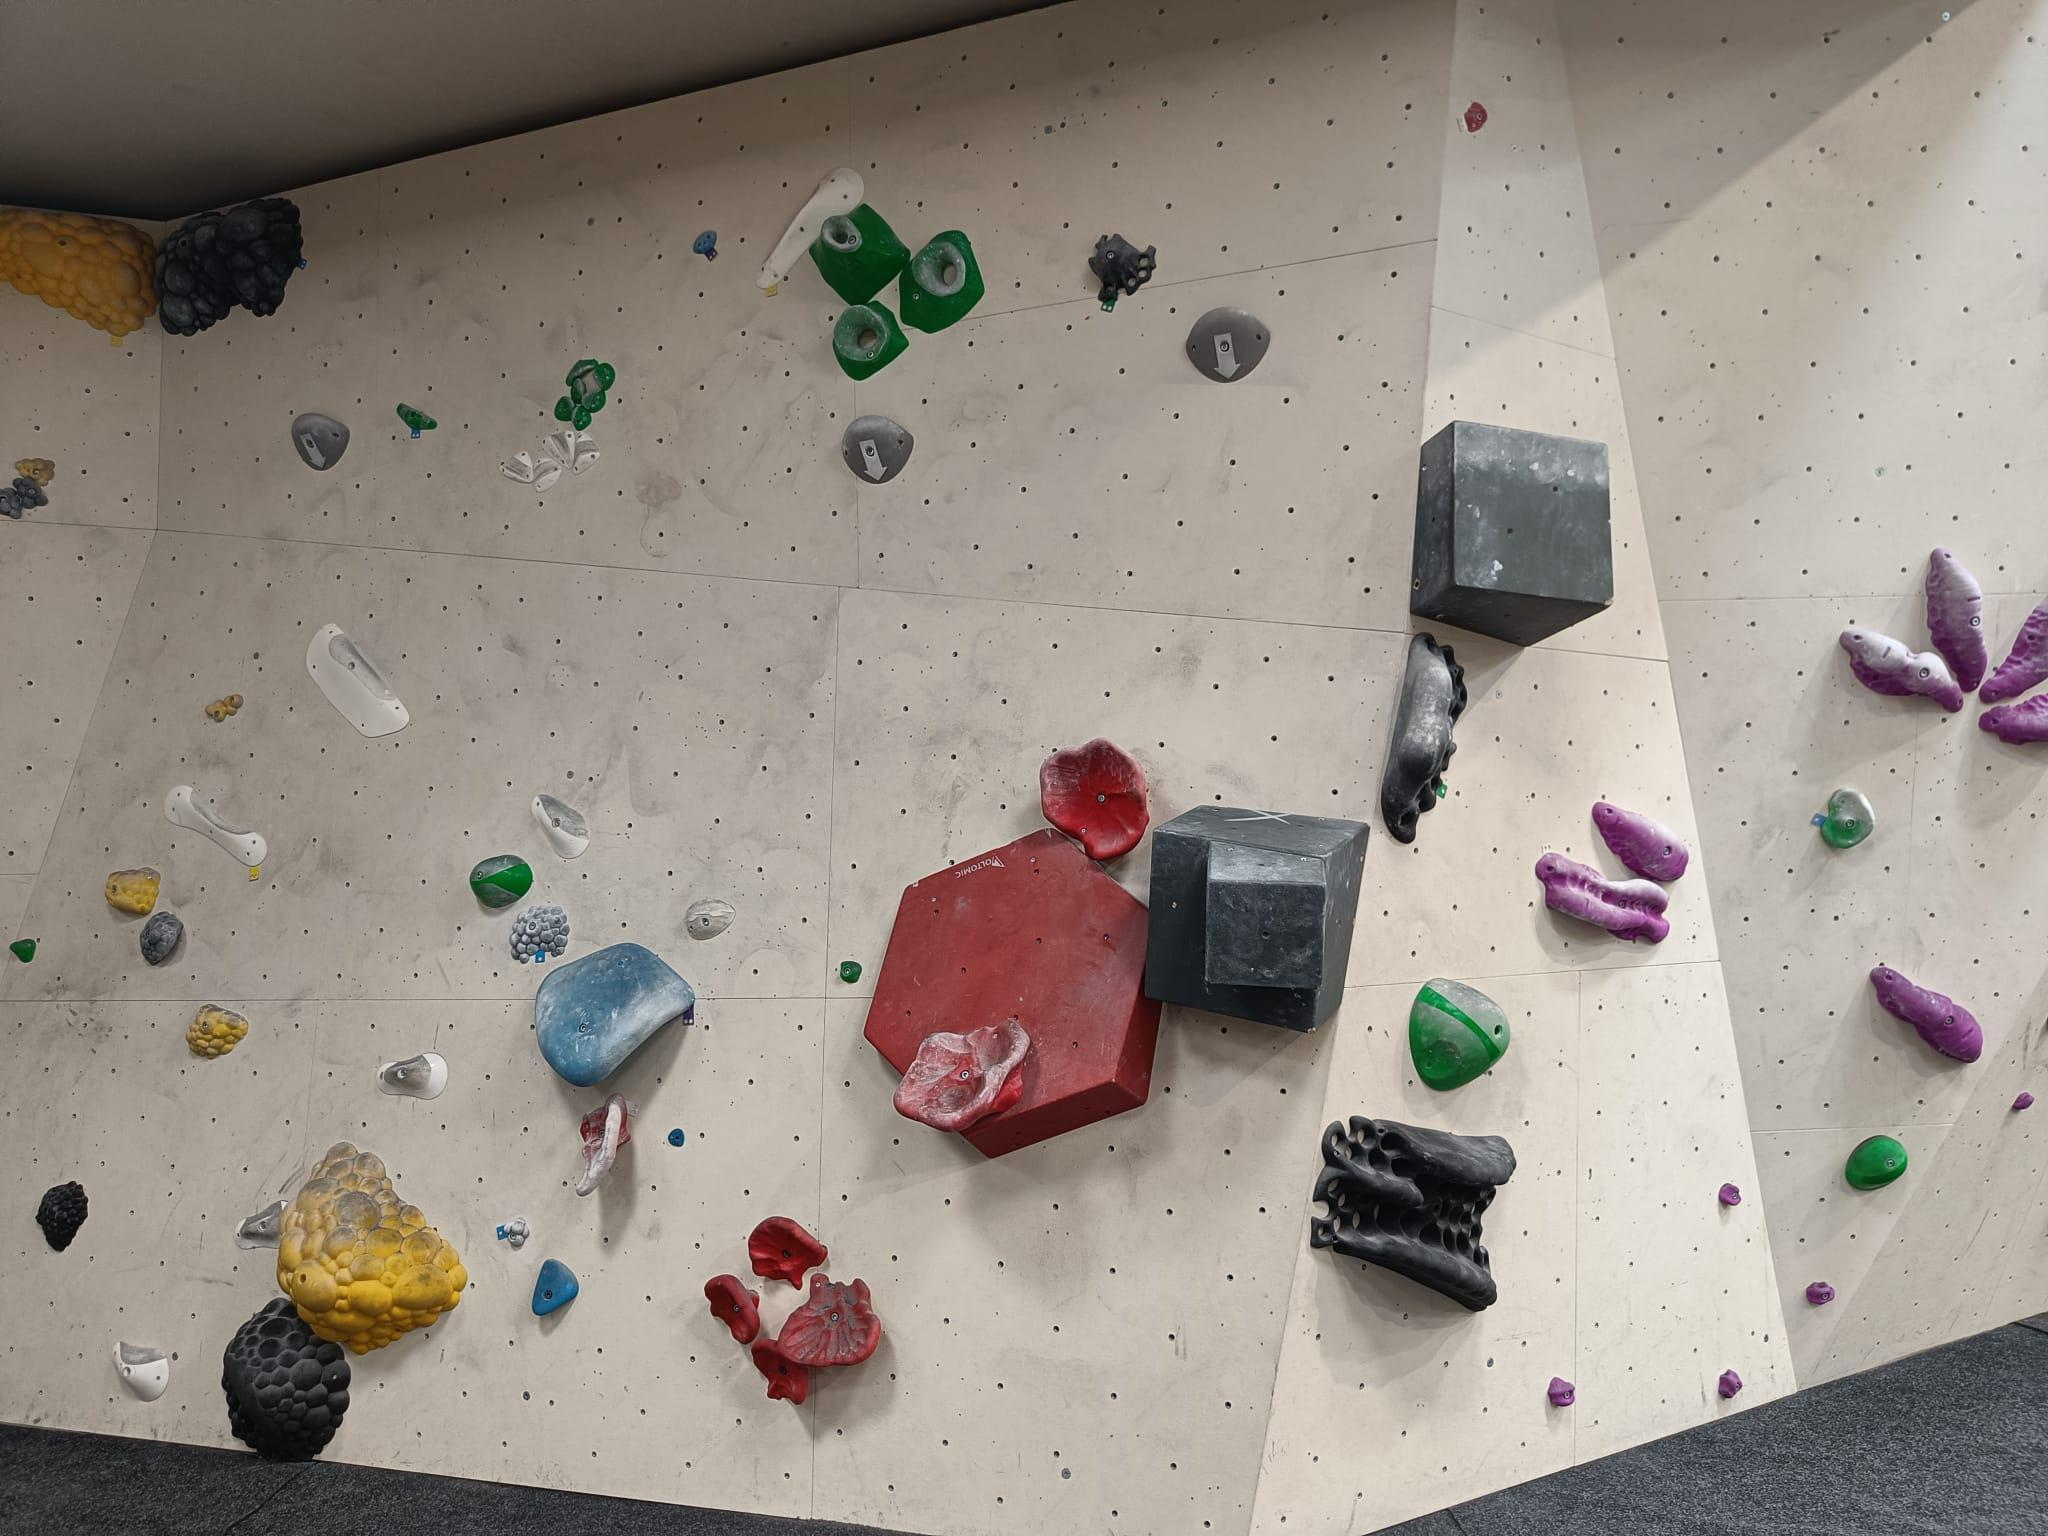hold: (277, 1142, 468, 1355), (1311, 1117, 1517, 1312), (534, 942, 695, 1086), (221, 1297, 352, 1463), (153, 197, 303, 336), (0, 208, 161, 336), (1380, 632, 1467, 845), (893, 1018, 1030, 1133), (1040, 736, 1151, 863), (753, 165, 866, 289), (1535, 852, 1671, 944), (305, 623, 410, 739), (1409, 978, 1511, 1092), (1871, 966, 1983, 1063), (1840, 628, 1964, 713), (810, 203, 911, 307), (776, 1273, 882, 1367), (898, 229, 985, 334), (1925, 547, 1988, 692), (163, 786, 268, 866), (1592, 800, 1688, 881), (1979, 595, 2048, 703), (1185, 307, 1271, 384), (832, 300, 910, 381), (748, 1215, 829, 1291), (576, 1094, 632, 1197), (842, 415, 914, 484), (1089, 232, 1158, 302), (705, 1273, 761, 1346), (531, 794, 590, 860), (35, 1179, 89, 1252), (751, 1338, 810, 1404), (1979, 692, 2048, 745), (185, 1004, 250, 1060), (111, 1341, 169, 1402), (510, 905, 571, 963), (469, 854, 534, 908), (1821, 787, 1877, 849), (1845, 1136, 1908, 1191), (376, 1052, 448, 1099), (292, 413, 350, 471), (531, 1258, 581, 1317), (232, 1199, 289, 1249), (105, 866, 160, 915), (139, 912, 184, 966), (685, 899, 737, 941), (540, 429, 576, 470), (498, 450, 534, 484), (572, 431, 600, 474), (397, 402, 439, 429), (13, 476, 48, 508), (205, 694, 244, 723), (15, 458, 55, 486), (534, 458, 563, 492), (564, 358, 598, 386), (1546, 1376, 1576, 1407), (1717, 1368, 1743, 1399), (505, 1217, 529, 1247), (1464, 102, 1488, 132), (1804, 1281, 1835, 1305), (0, 487, 23, 520), (10, 937, 37, 963), (592, 361, 616, 390), (581, 389, 608, 413), (693, 231, 718, 255), (553, 397, 576, 423), (1717, 1183, 1743, 1205), (571, 403, 592, 431), (840, 960, 863, 984), (571, 378, 587, 405), (2011, 1092, 2035, 1110), (668, 1128, 685, 1147)
volume: (863, 828, 1163, 1158), (1143, 805, 1369, 1033), (1409, 421, 1614, 647), (1205, 841, 1327, 987)
